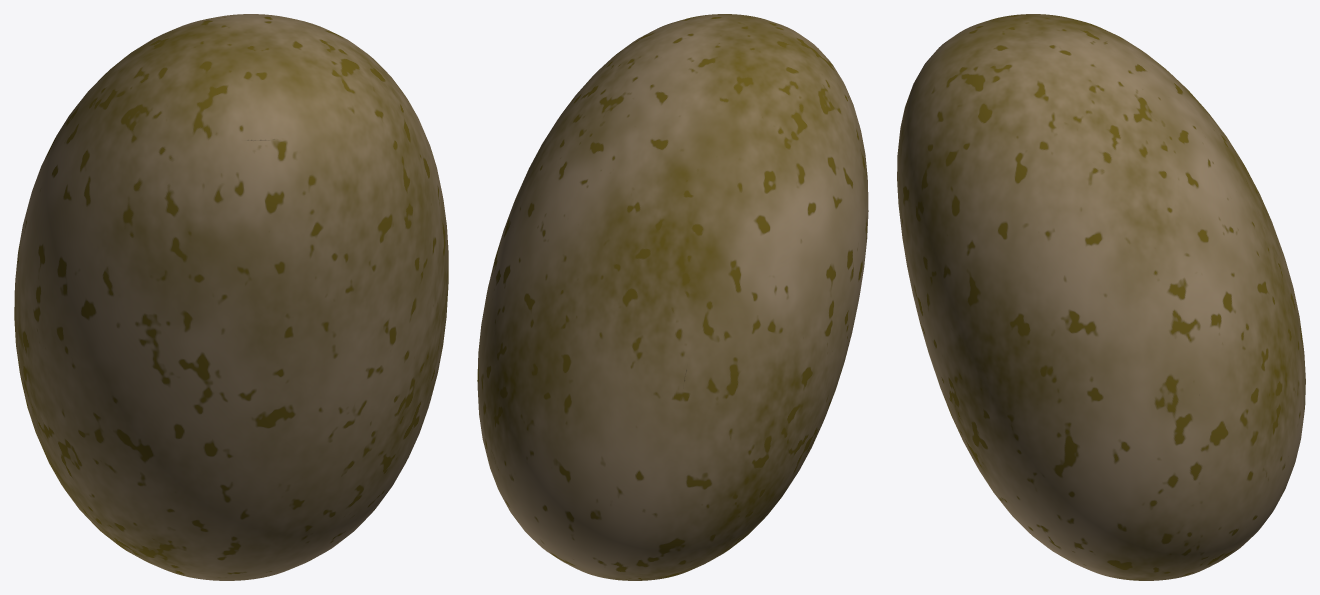
The model's file is potatoeForExport.fbx.
3 renders of one model, left to right at view 1: azimuth 30°, elevation 25°; view 2: azimuth 150°, elevation 25°; view 3: azimuth 270°, elevation 25°, orthographic. The views are drawn at different scales.
Parts seen in each view (by area): view 1: Sphere; view 2: Sphere; view 3: Sphere.
Part boxes in pixels (x1,y1,x2,y2): Sphere: (14,14,448,580); Sphere: (477,14,868,580); Sphere: (897,14,1305,580).
Size of the model in its own units: 200 by 292 by 212.
1 material, 1 textured.
